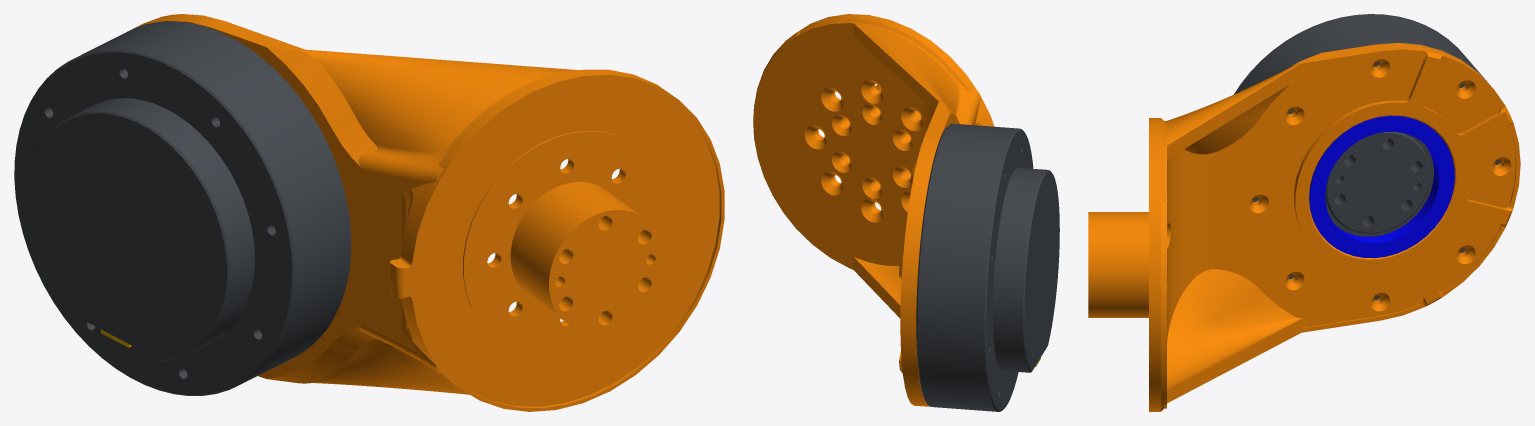
Rendered from hip_yaw_link.dae.
3 renders of one model, left to right at view 1: azimuth 30°, elevation 25°; view 2: azimuth 150°, elevation 25°; view 3: azimuth 270°, elevation 25°, orthographic. The views are drawn at different scales.
Visible parts, largest first — view 1: hip_l_bracket_final, AK80-9; view 2: hip_l_bracket_final, AK80-9; view 3: hip_l_bracket_final, AK80-9, hip crossed-roller bearing.
Boxes of the visible parts, x1=… form: hip_l_bracket_final: x1=127, y1=14, x2=724, y2=411; AK80-9: x1=14, y1=21, x2=351, y2=395; hip_l_bracket_final: x1=753, y1=14, x2=994, y2=406; AK80-9: x1=916, y1=123, x2=1059, y2=411; hip_l_bracket_final: x1=1088, y1=43, x2=1520, y2=411; AK80-9: x1=1234, y1=14, x2=1500, y2=300; hip crossed-roller bearing: x1=1309, y1=116, x2=1454, y2=258.
Size of the model in its own units: 0.1605 by 0.098 by 0.1426.
